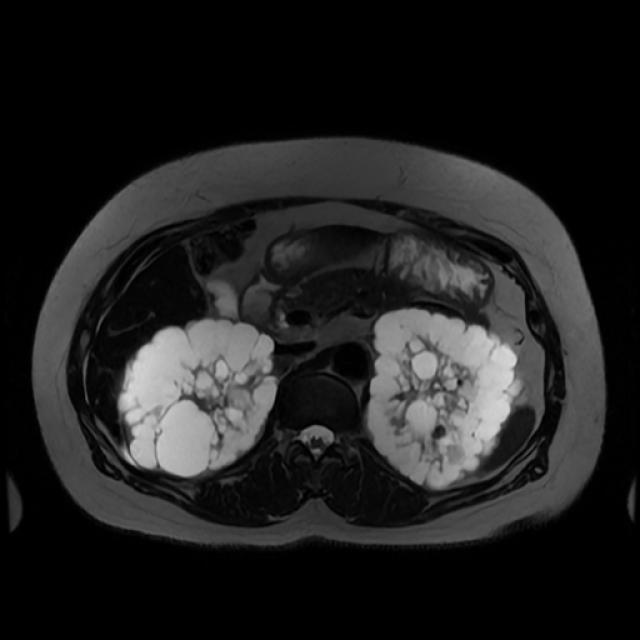sag: (120, 319, 277, 477)
sol: (367, 306, 532, 489)
